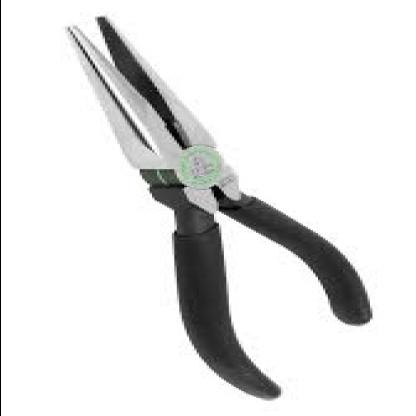Pliers: (53, 11, 387, 406)
